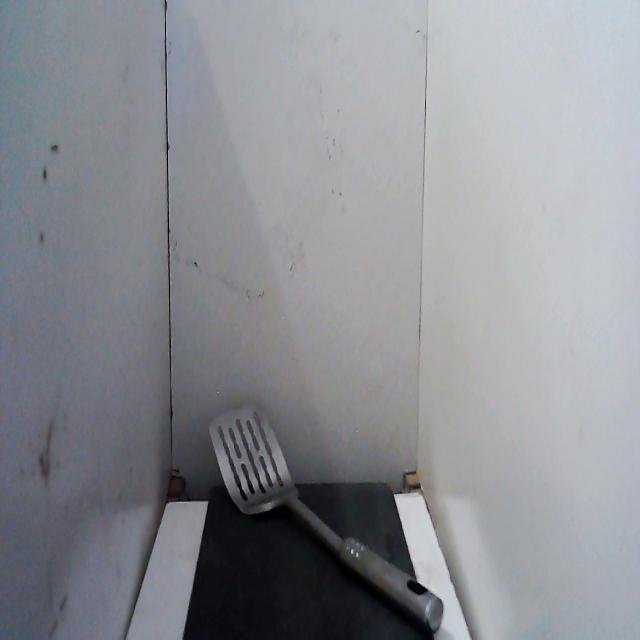metal: (202, 393, 452, 637)
